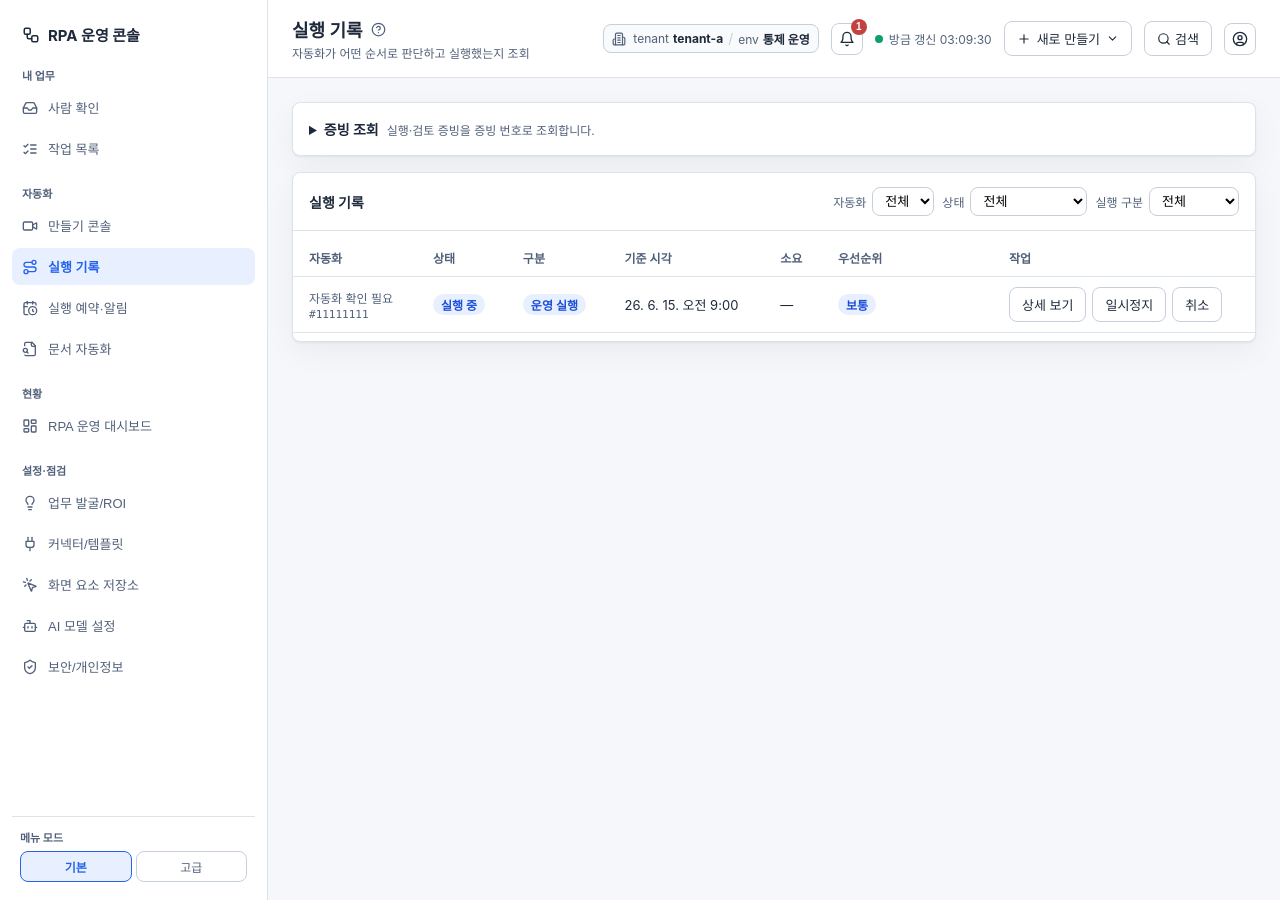
Scenario: D7 운영 콘솔 shell › 확인 다이얼로그: role=dialog + aria-modal + 포커스 이동 + Esc 취소(focus trap)
Click the button "취소": (1197, 304) [1172, 287, 1222, 322]
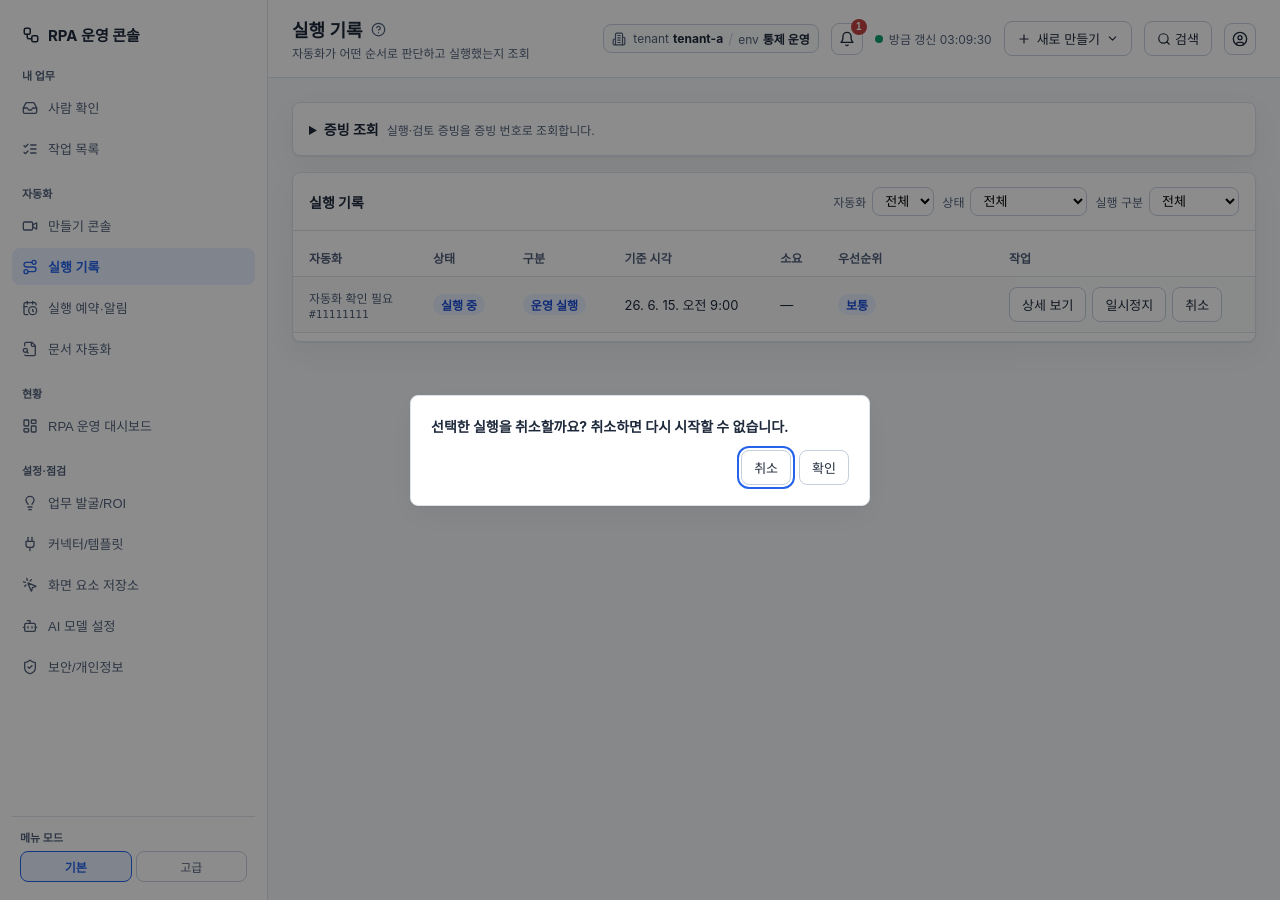
Press Escape in the dialog, box [410, 394, 870, 506]
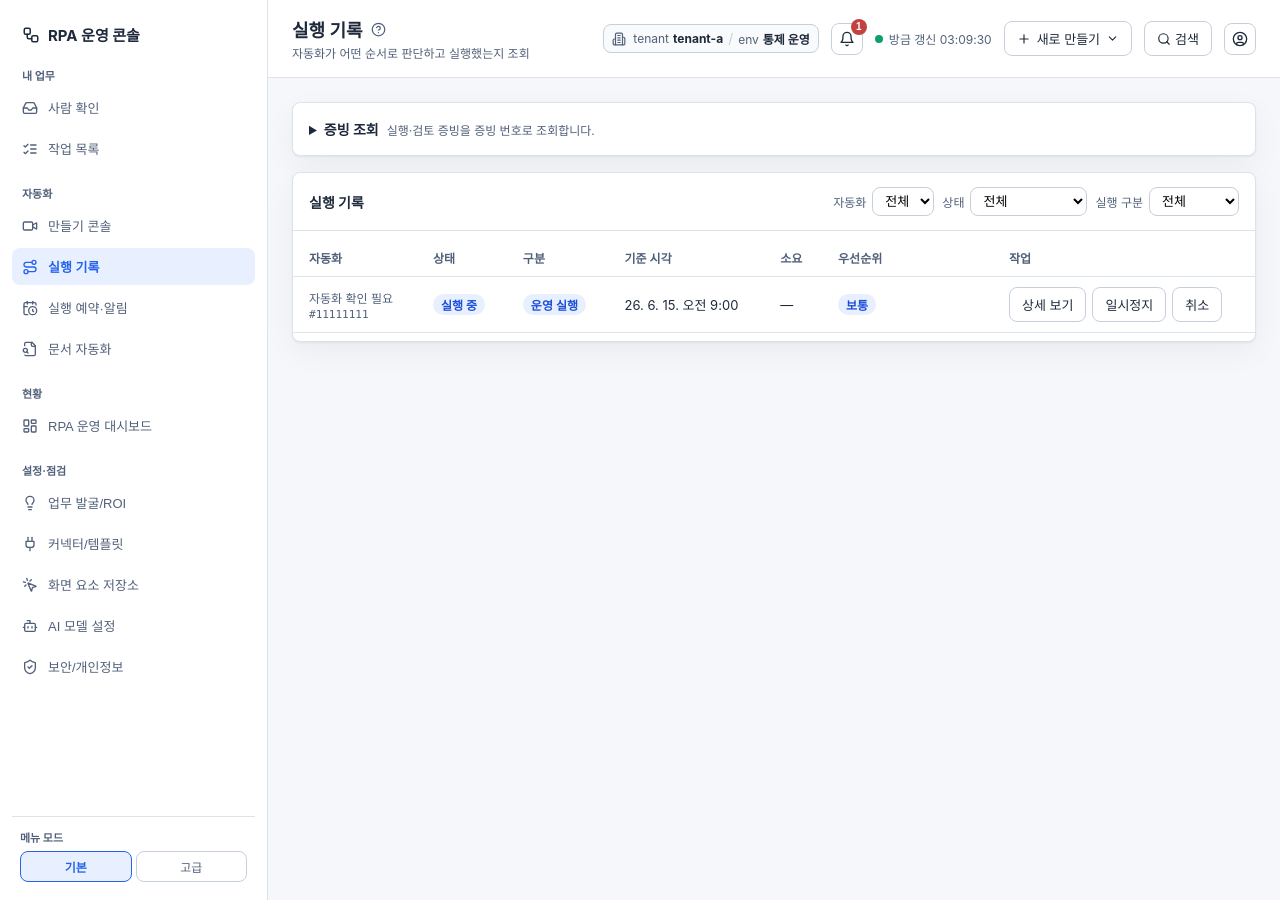
expect the dialog is gone: met
